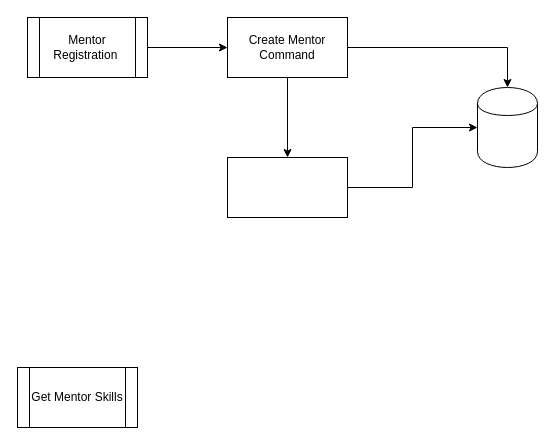
This 555x445 diagram has some shape labels left out. Each missing label, with the box of its shape:
Assign Mentor Skill Command: (226, 156, 348, 218)
Mentor DB: (476, 86, 538, 168)
